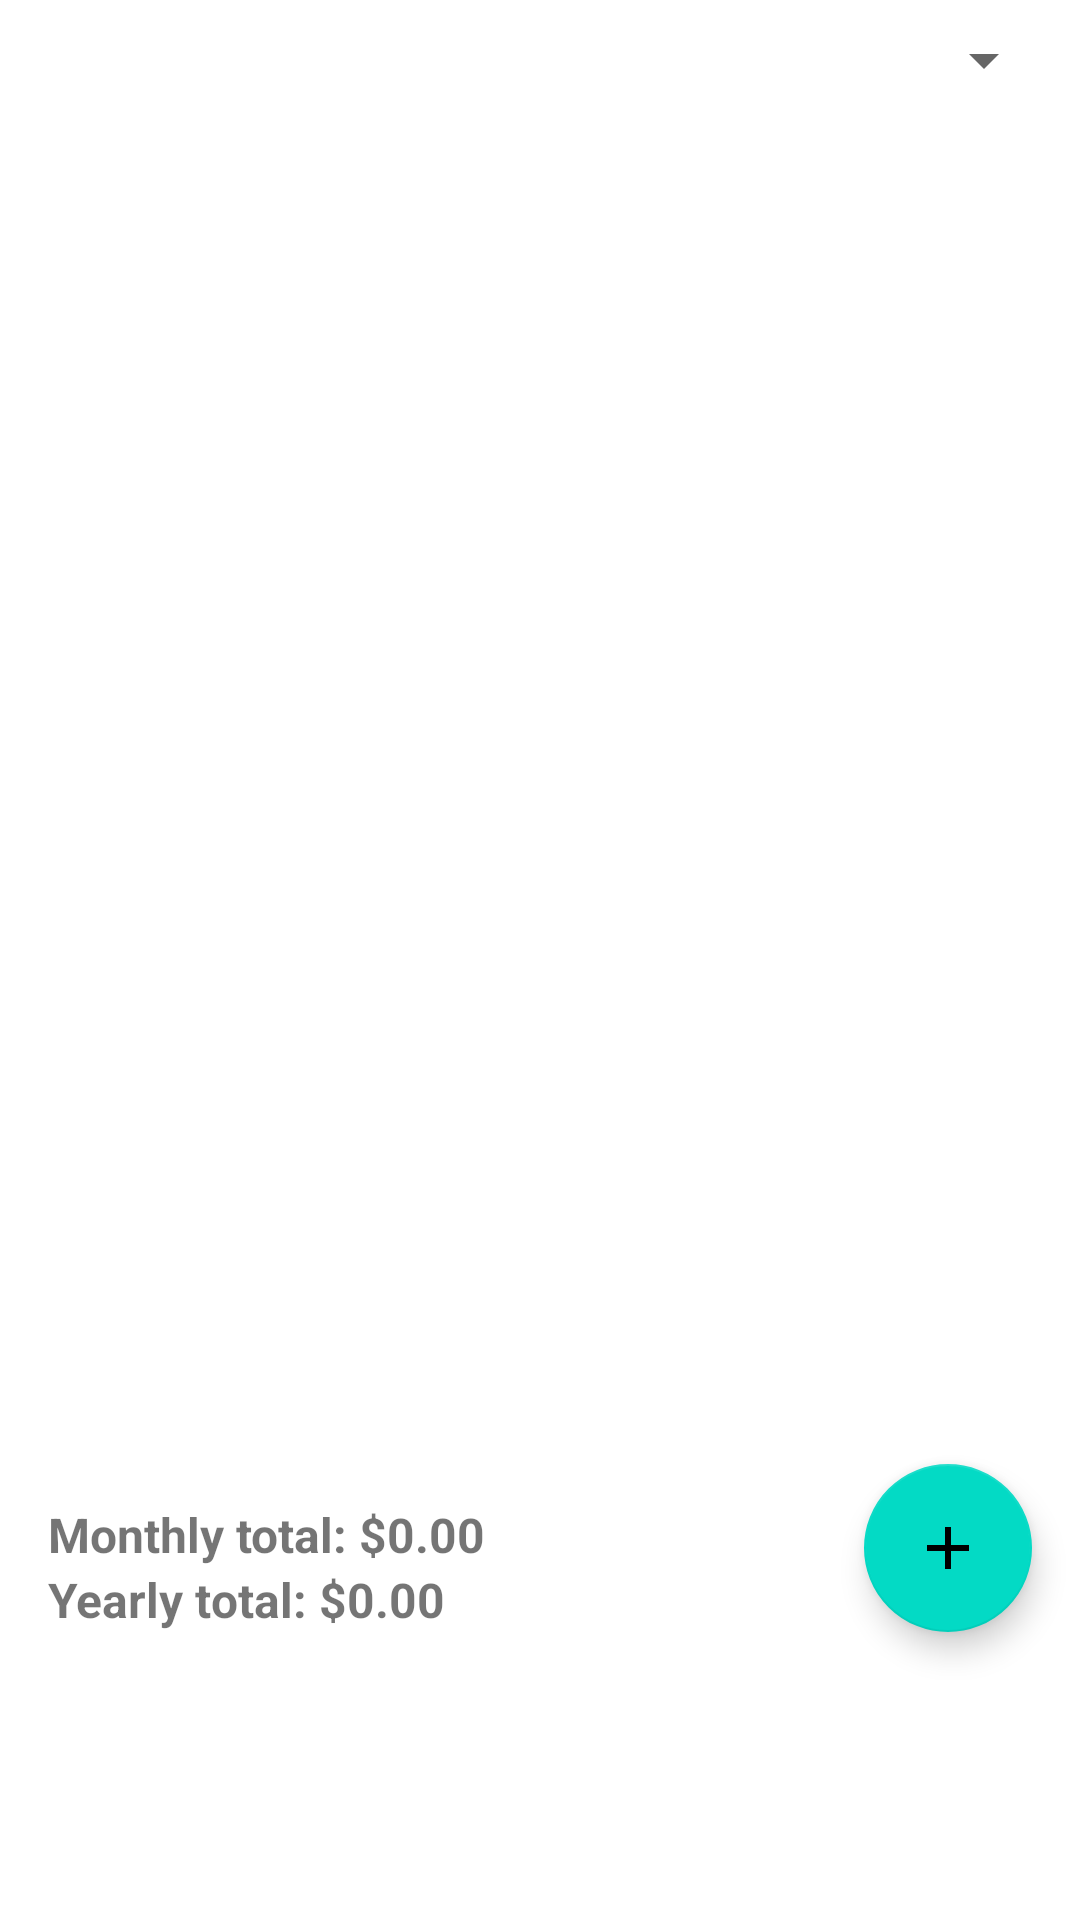

Locate icon controls on the screen. Image size 1080w x 1920h, boxes as (x1, y1, x2, y2).
Add Subscription: (864, 1464, 1032, 1632)
